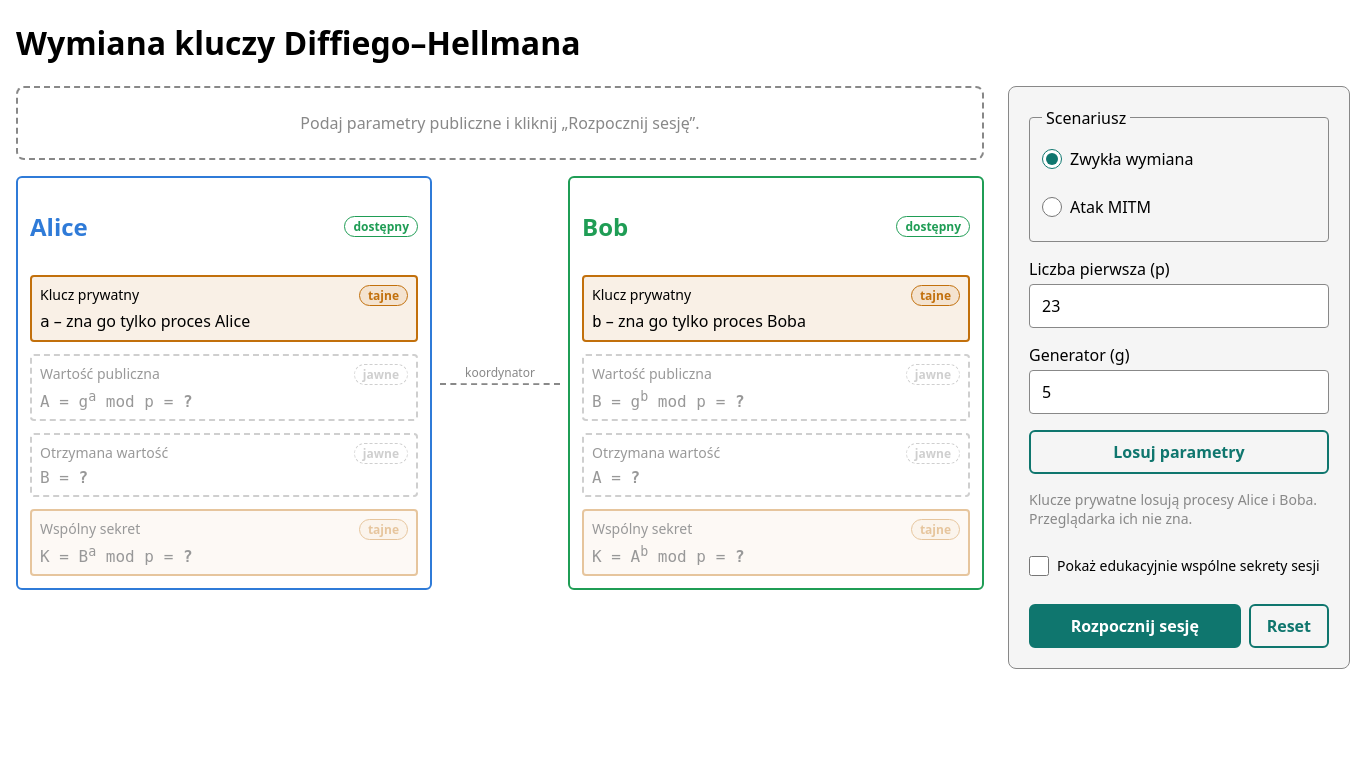
Test: formularz DH › błędy pól są powiązane z polem (aria-invalid, aria-describedby) i nie wysyłają żądania
Clear the field labelled "Liczba pierwsza (p)" at x=1179, y=306, box [1029, 284, 1329, 328]
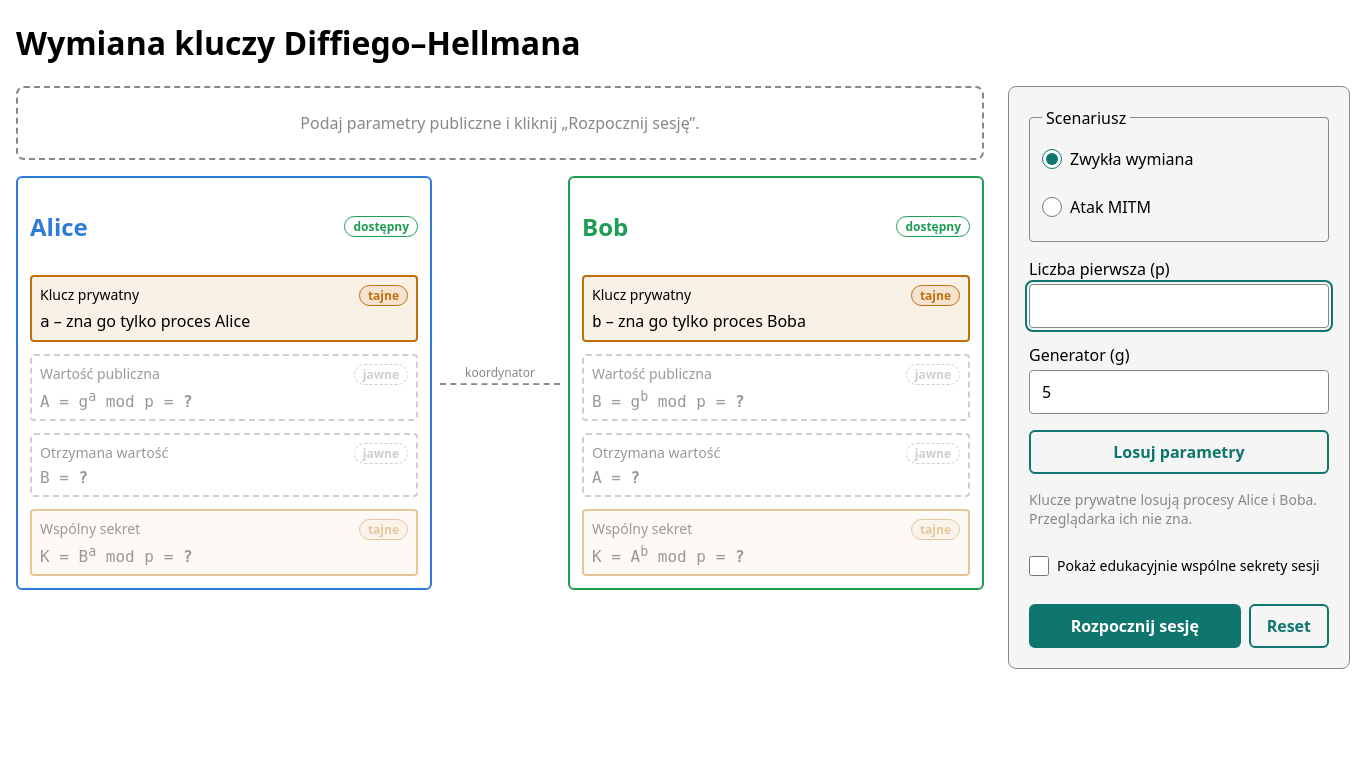
Click the button "Rozpocznij sesję" at x=1135, y=626, box [1029, 604, 1241, 648]
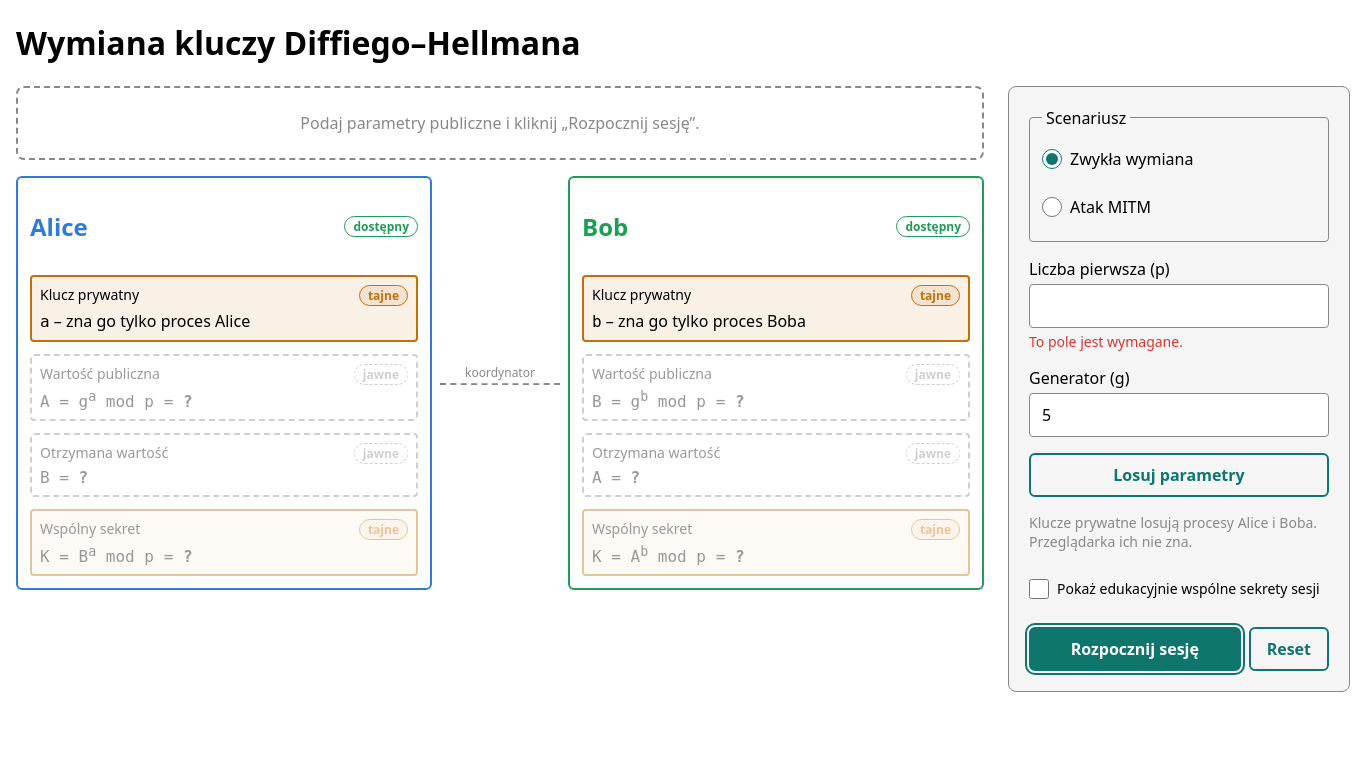
Expected: the text "To pole jest wymagane." is shown, [1029, 332, 1183, 351]
